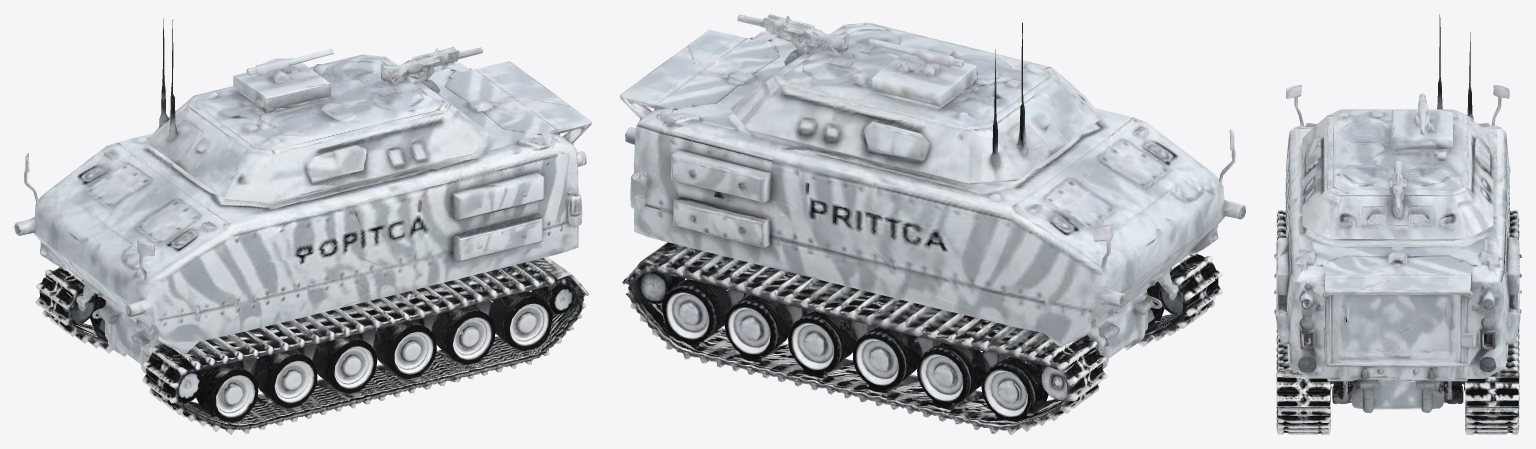
The model's file is apc-winter.glb.
The picture shows the model from 3 angles, left to right: view 1: azimuth 30°, elevation 25°; view 2: azimuth 150°, elevation 25°; view 3: azimuth 270°, elevation 25°; orthographic projection. The views are drawn at different scales.
Size of the model in its own units: 2 by 1.37 by 1.02.
1 material, 1 textured.
